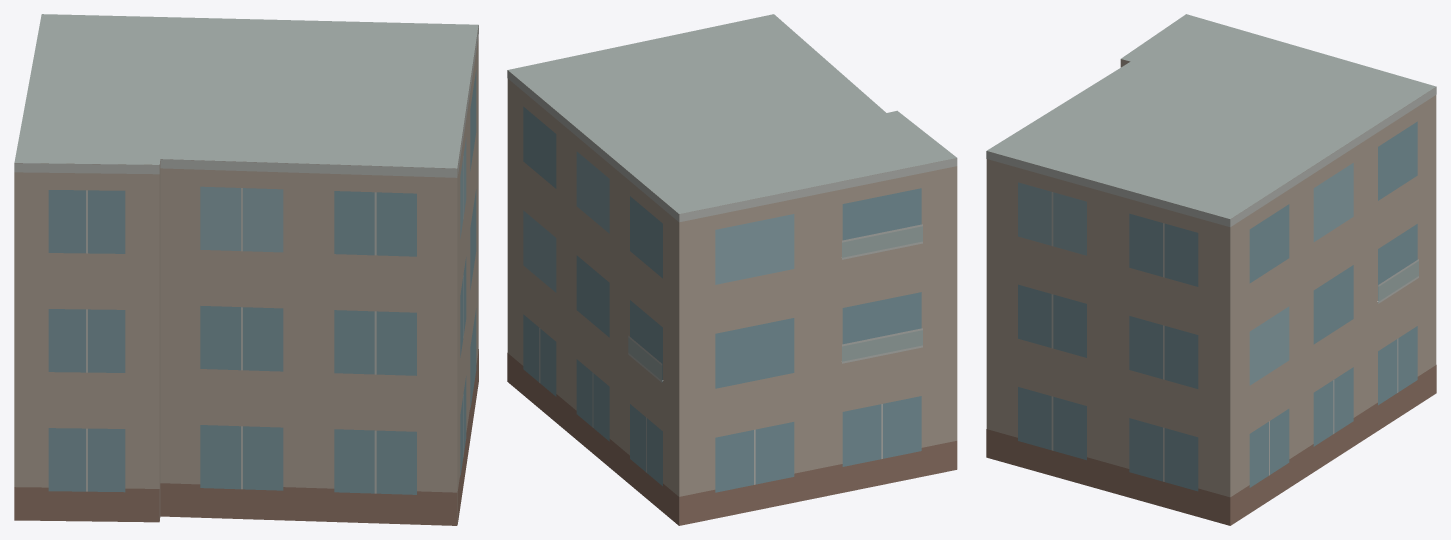
File: survey-upis-32499936.glb
The picture shows the model from 3 angles, left to right: view 1: azimuth 30°, elevation 25°; view 2: azimuth 150°, elevation 25°; view 3: azimuth 270°, elevation 25°; orthographic projection. The views are drawn at different scales.
Visible parts, largest first — view 1: survey-upis-32499936.tmp; view 2: survey-upis-32499936.tmp; view 3: survey-upis-32499936.tmp.
Boxes of the visible parts, x1=… form: survey-upis-32499936.tmp: x1=14, y1=14, x2=478, y2=525; survey-upis-32499936.tmp: x1=507, y1=14, x2=957, y2=525; survey-upis-32499936.tmp: x1=986, y1=14, x2=1436, y2=525.
Size of the model in its own units: 13.35 by 9.3 by 12.38.
